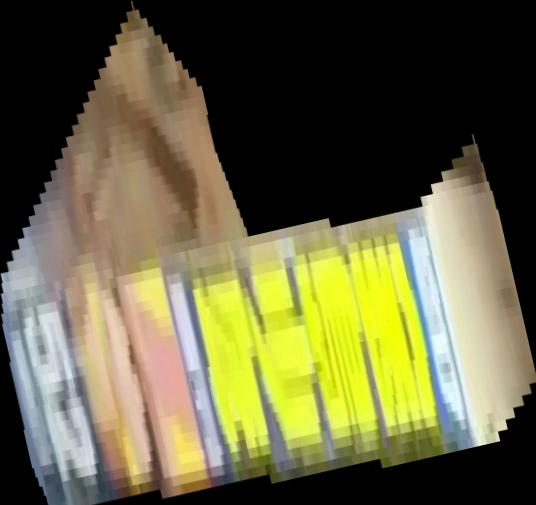flat: (1, 1, 536, 505)
